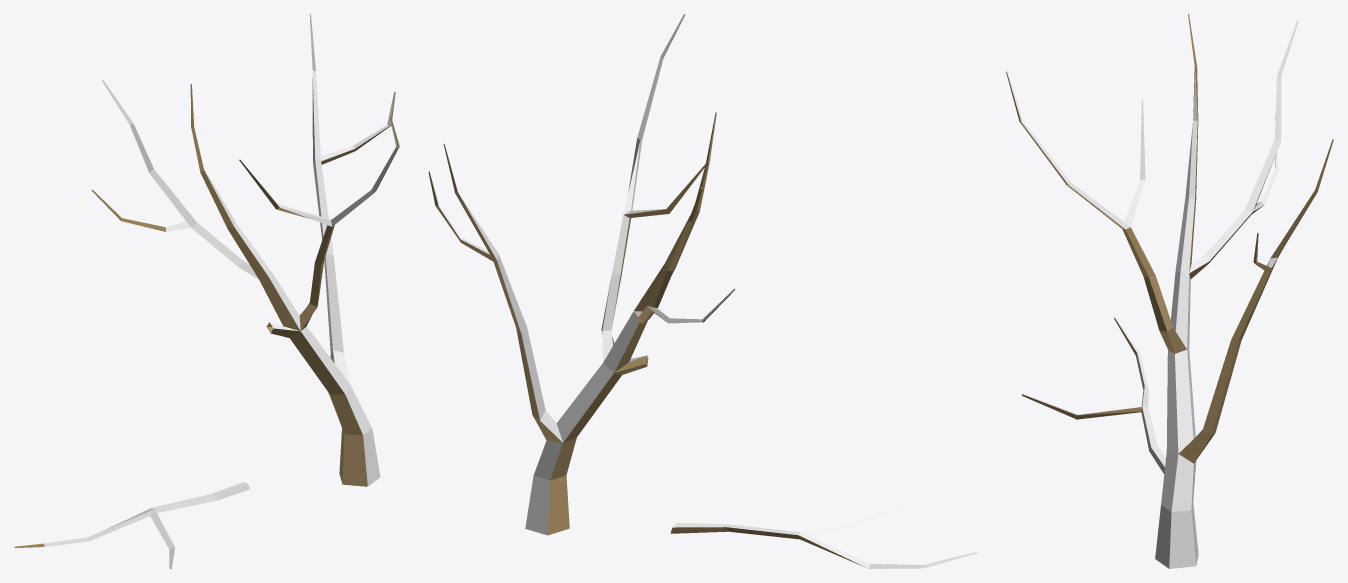
The model's file is Acacia_Tree_NoLeaves_crk_l_Snow_03.fbx.
3 renders of one model, left to right at view 1: azimuth 30°, elevation 25°; view 2: azimuth 150°, elevation 25°; view 3: azimuth 270°, elevation 25°, orthographic. The views are drawn at different scales.
Parts seen in each view (by area): view 1: Acacia_Tree_NoLeaves_crk_l_Snow_03; view 2: Acacia_Tree_NoLeaves_crk_l_Snow_03; view 3: Acacia_Tree_NoLeaves_crk_l_Snow_03.
Part boxes in pixels (box(x1,y1,x2,y2)): Acacia_Tree_NoLeaves_crk_l_Snow_03: box(14, 14, 399, 568); Acacia_Tree_NoLeaves_crk_l_Snow_03: box(428, 14, 977, 568); Acacia_Tree_NoLeaves_crk_l_Snow_03: box(1006, 14, 1333, 568).
Size of the model in its own units: 1208 by 1115 by 716.
